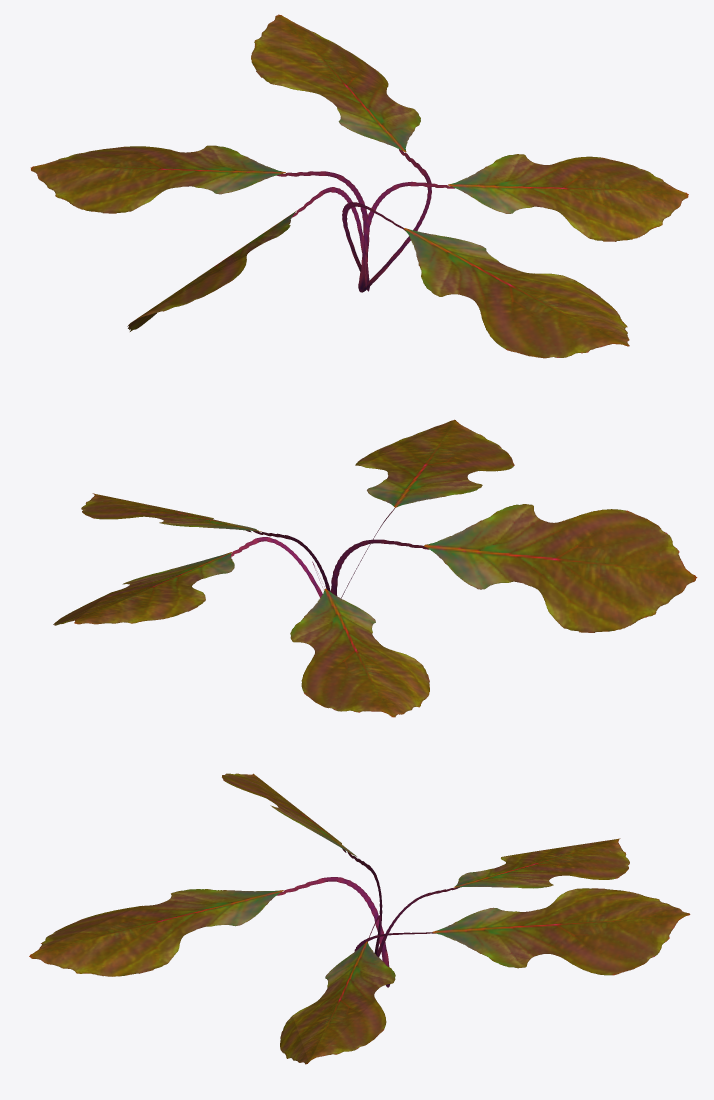
File: Row Root B3.fbx
The picture shows the model from 3 angles, top to bottom: view 1: azimuth 30°, elevation 25°; view 2: azimuth 150°, elevation 25°; view 3: azimuth 270°, elevation 25°; orthographic projection. The views are drawn at different scales.
Parts seen in each view (by area): view 1: Row Root B3; view 2: Row Root B3; view 3: Row Root B3.
Part boxes in pixels (bbox=[...]): Row Root B3: bbox=[30, 14, 688, 358]; Row Root B3: bbox=[53, 419, 697, 717]; Row Root B3: bbox=[29, 773, 690, 1064].
Size of the model in its own units: 232 by 51.04 by 250.
